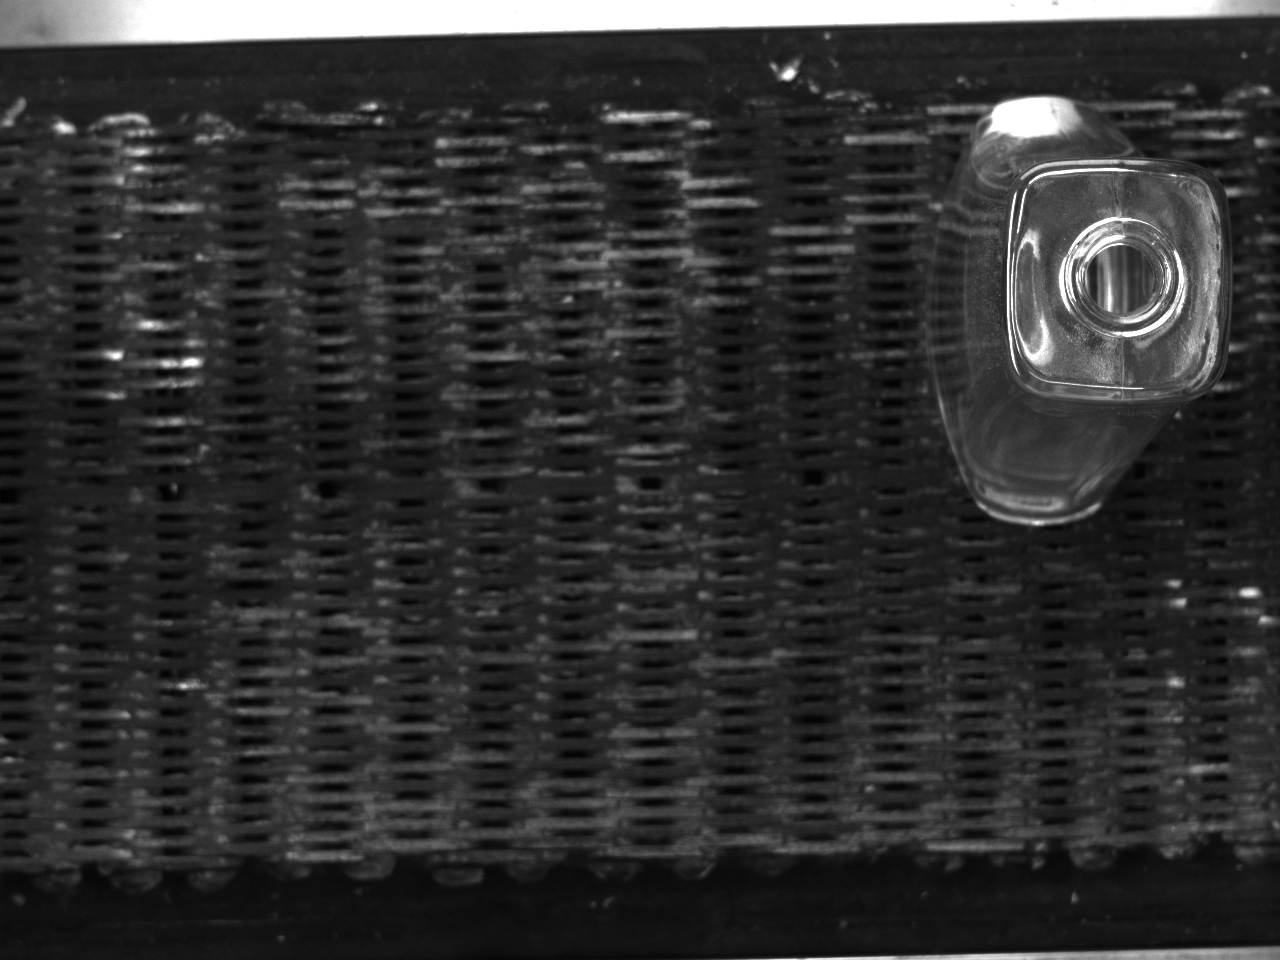bottleneck: (1065, 216, 1187, 337)
